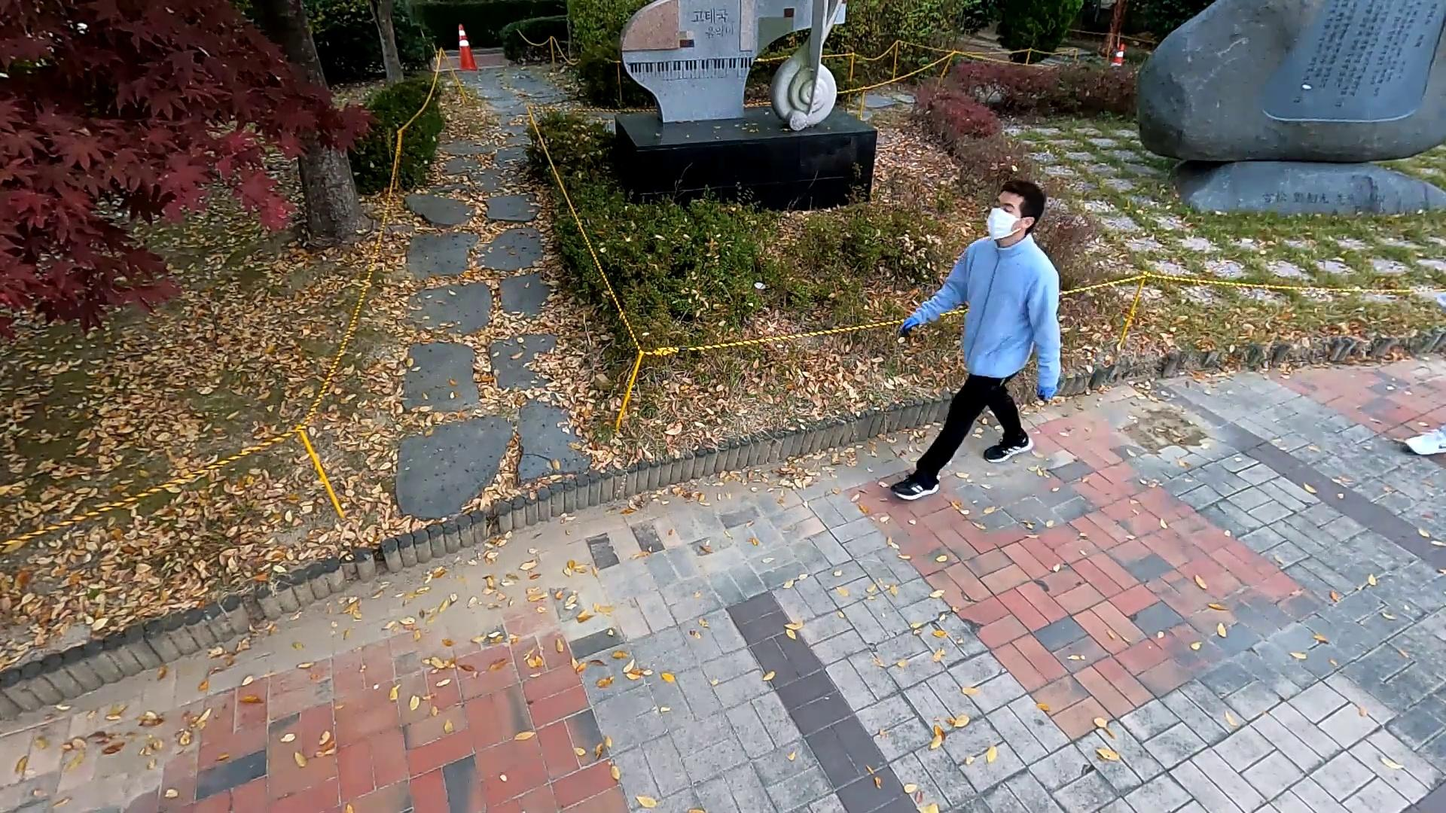person: (890, 182, 1063, 505)
